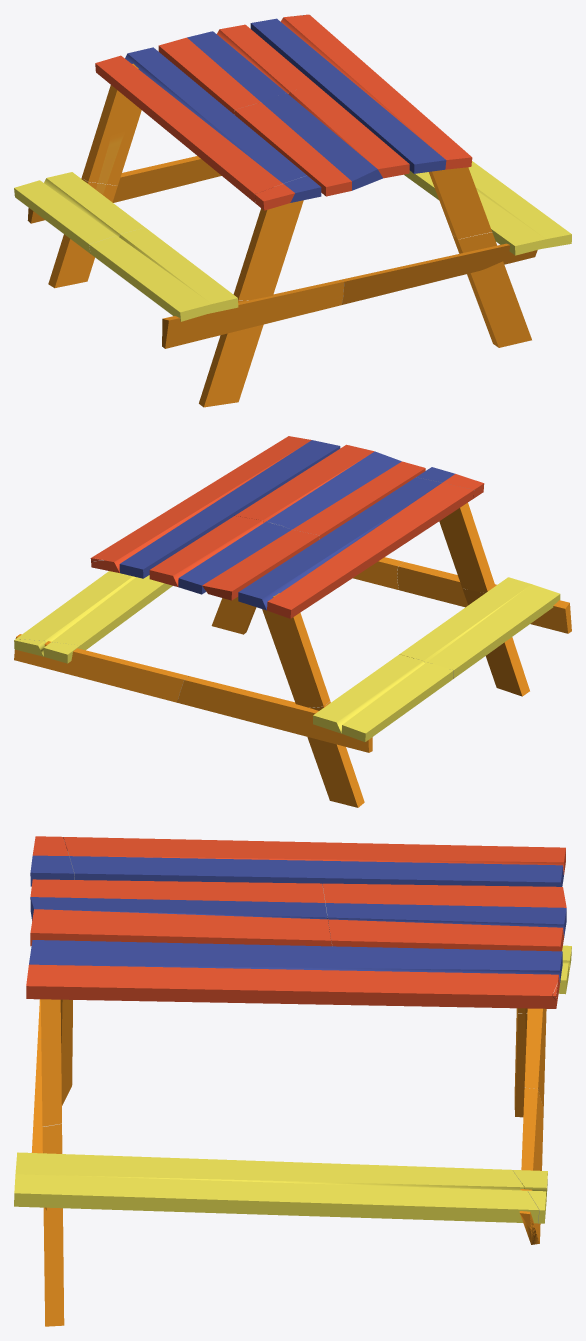
Rendered from Table_Picnic_DEST.fbx.
3 renders of one model, top to bottom at view 1: azimuth 30°, elevation 25°; view 2: azimuth 150°, elevation 25°; view 3: azimuth 270°, elevation 25°, orthographic. The views are drawn at different scales.
Visible parts, largest first — view 1: polySurface144.005_cell, polySurface144.003_cell.001, polySurface144.004_cell, polySurface144.004_cell.001, polySurface144.010_cell, polySurface144.010_cell.001, polySurface144.009_cell, polySurface144.011_cell.001, polySurface144.009_cell.001, polySurface144.006_cell.001, polySurface144.002_cell, polySurface144.007_cell.001 (+5 smaller); view 2: polySurface144.005_cell, polySurface144.003_cell.001, polySurface144.004_cell, polySurface144.004_cell.001, polySurface144.010_cell, polySurface144.010_cell.001, polySurface144.011_cell.001, polySurface144.008_cell.001, polySurface144.008_cell, polySurface144.007_cell.001, polySurface144.009_cell, polySurface144.006_cell.001 (+6 smaller); view 3: polySurface144.003_cell.001, polySurface144.011_cell.001, polySurface144.005_cell, polySurface144.004_cell, polySurface144.004_cell.001, polySurface144.002_cell, polySurface144.002_cell.001, polySurface144.008_cell, polySurface144.008_cell.001, polySurface144.005_cell.001, polySurface144.006_cell, polySurface144.007_cell (+2 smaller).
Boxes of the visible parts, x1,y1,x2,y2 form: polySurface144.005_cell: (95,47,306,203); polySurface144.003_cell.001: (250,15,472,173); polySurface144.004_cell: (234,85,409,196); polySurface144.004_cell.001: (158,24,315,114); polySurface144.010_cell: (89,227,238,321); polySurface144.010_cell.001: (14,172,144,253); polySurface144.009_cell: (162,279,344,348); polySurface144.011_cell.001: (404,161,571,255); polySurface144.009_cell.001: (341,243,537,304); polySurface144.006_cell.001: (233,200,303,300); polySurface144.002_cell: (452,232,531,347); polySurface144.007_cell.001: (81,63,141,185); polySurface144.005_cell: (238,477,473,618); polySurface144.003_cell.001: (91,436,340,578); polySurface144.004_cell: (235,444,425,539); polySurface144.004_cell.001: (149,516,319,600); polySurface144.010_cell: (399,577,560,678); polySurface144.010_cell.001: (313,654,453,741); polySurface144.011_cell.001: (16,571,172,650); polySurface144.008_cell.001: (177,676,372,752); polySurface144.008_cell: (14,634,188,702); polySurface144.007_cell.001: (262,593,330,707); polySurface144.009_cell: (397,562,571,633); polySurface144.006_cell.001: (439,502,495,592); polySurface144.003_cell.001: (26,940,562,1008); polySurface144.011_cell.001: (14,1152,539,1223); polySurface144.005_cell: (63,837,565,886); polySurface144.004_cell: (30,879,332,946); polySurface144.004_cell.001: (322,883,566,951); polySurface144.002_cell: (42,1123,64,1326); polySurface144.002_cell.001: (40,999,61,1126); polySurface144.008_cell: (519,1088,543,1244); polySurface144.008_cell.001: (524,1008,546,1118); polySurface144.005_cell.001: (30,836,74,886); polySurface144.006_cell: (60,999,72,1105); polySurface144.007_cell: (514,1008,527,1117).
Bounding box in the file's own units: 454 × 228 × 373.
